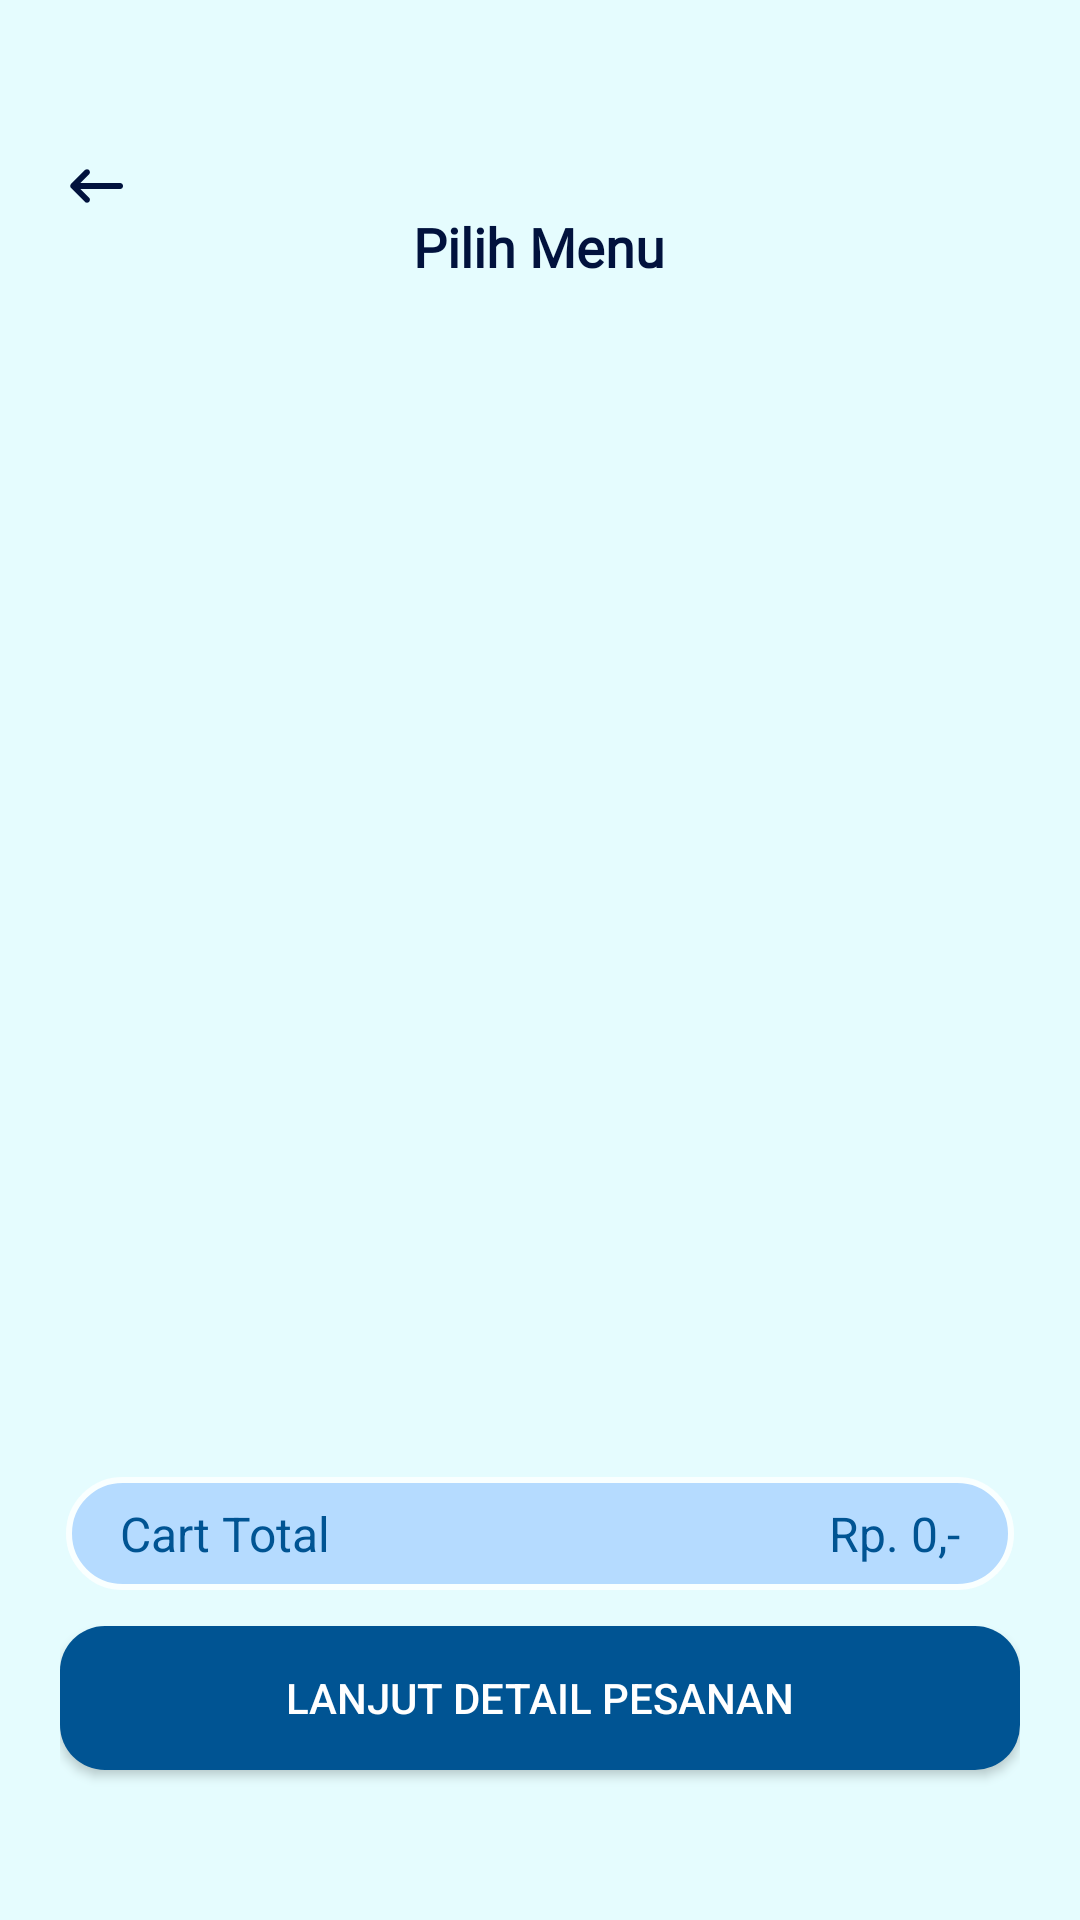

Icons on this 1080w x 1920h Android screen, each with the point to tap as (x,y):
Back: (96,186)
